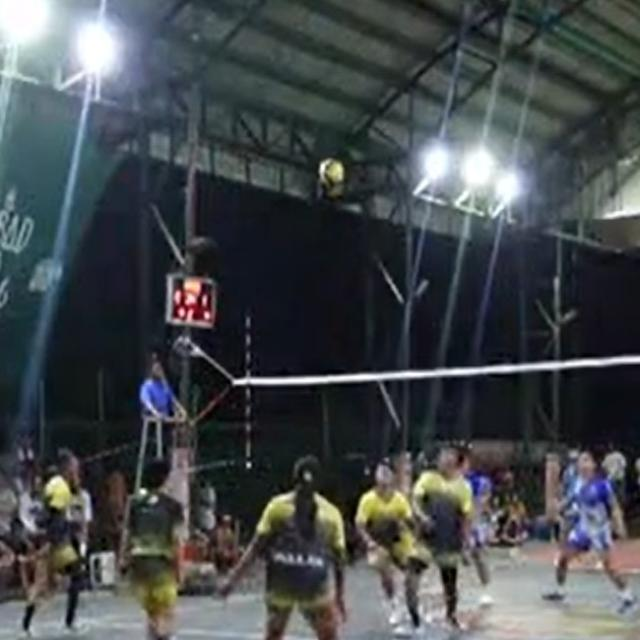volleyball: (324, 158, 346, 190)
